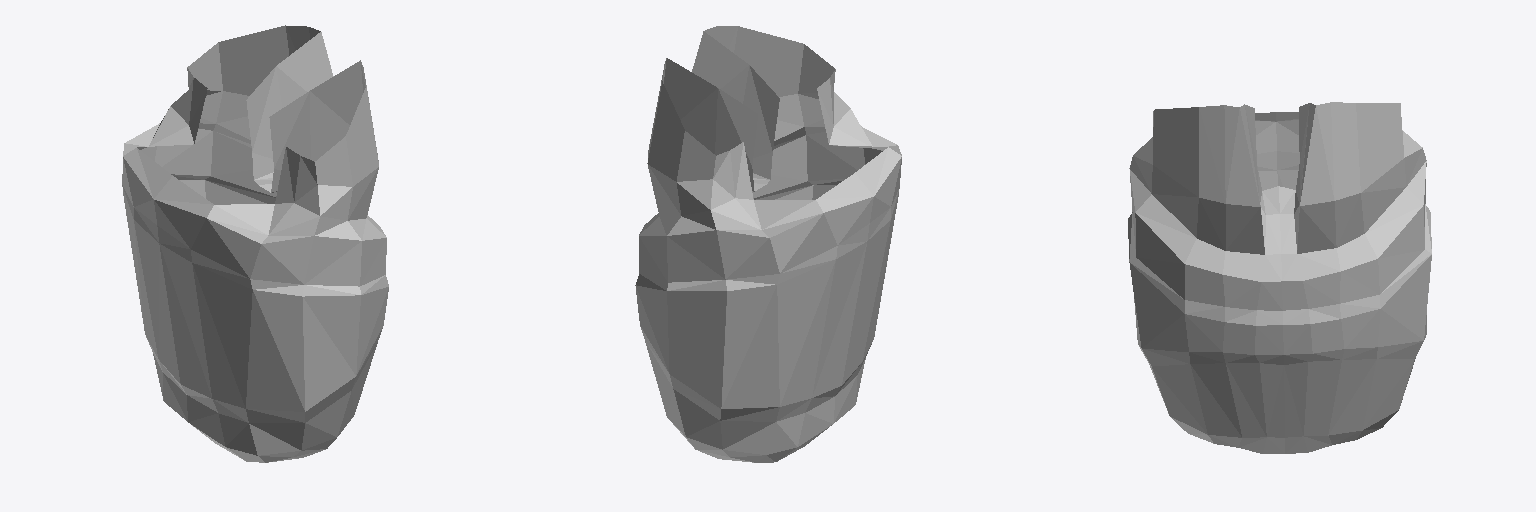
The model's file is RFinger33.obj.
3 views of the same model, side by side, from view 1: azimuth 30°, elevation 25°; view 2: azimuth 150°, elevation 25°; view 3: azimuth 270°, elevation 25° (orthographic).
Visible parts, largest first — view 1: RFinger33_RFinger33; view 2: RFinger33_RFinger33; view 3: RFinger33_RFinger33.
Boxes of the visible parts, x1,y1,x2,y2 form: RFinger33_RFinger33: [122, 25, 388, 462]; RFinger33_RFinger33: [635, 26, 901, 462]; RFinger33_RFinger33: [1128, 102, 1431, 453].
Size of the model in its own units: 0.017 by 0.0299 by 0.0215.